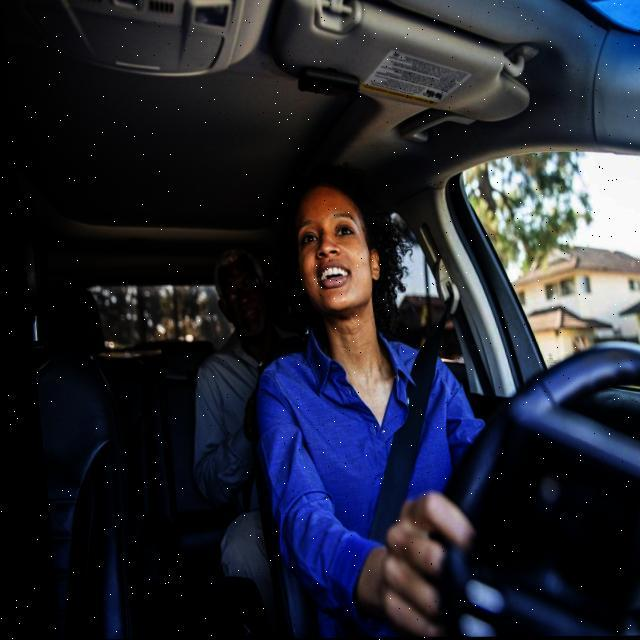seatbelt: (254, 332, 466, 638)
